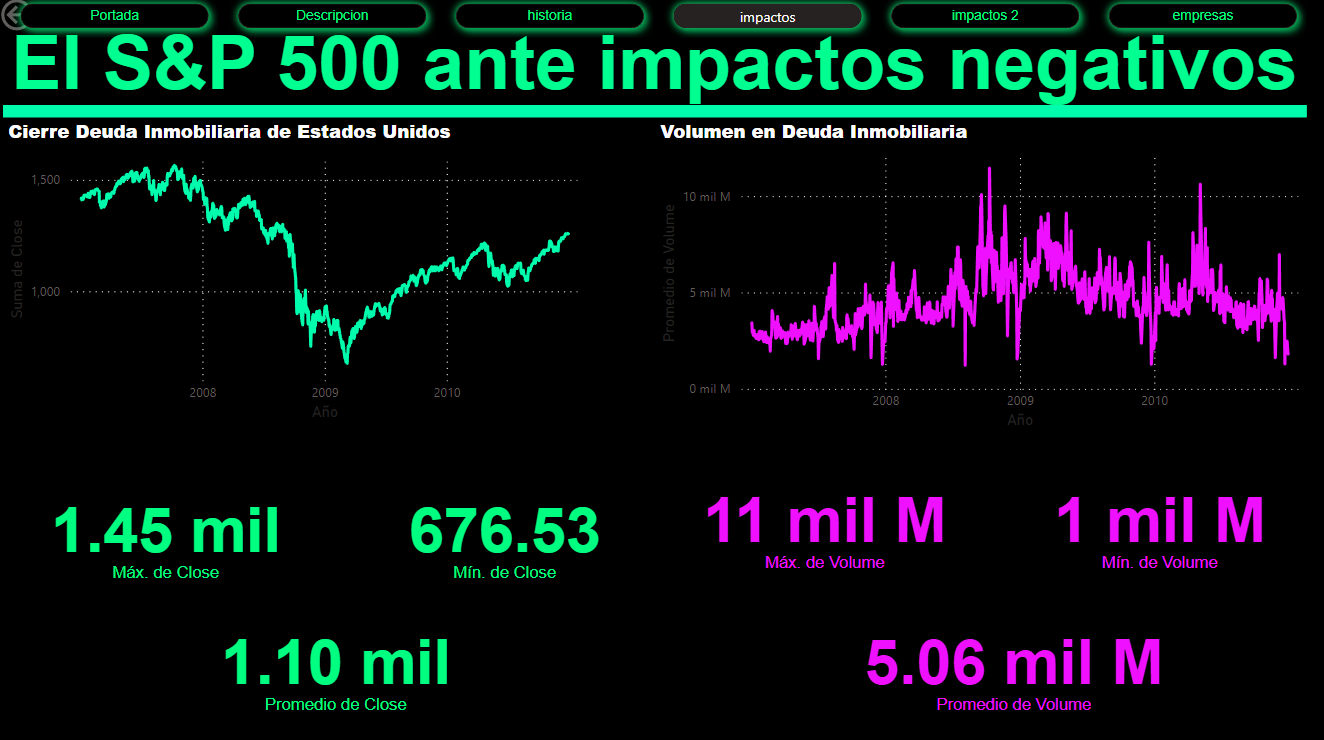

This screenshot's page, from the dashboard's own definition file:
{"tool":"powerbi","page":{"name":"impactos","canvas":[1280,720],"ordinal":3},"visuals":[{"type":"textbox","box":[9.6,20.2,1270.4,100.8],"z":0},{"type":"shape","box":[6.7,106.6,1252.2,12.5],"z":1000},{"type":"lineChart","title":"Cierre Deuda Inmobiliaria de Estados Unidos","fields":{"Category":["historia_gspc.Date.Variación.Jerarquía de fechas.Año","historia_gspc.Date.Variación.Jerarquía de fechas.Trimestre","historia_gspc.Date.Variación.Jerarquía de fechas.Mes","historia_gspc.Date.Variación.Jerarquía de fechas.Día"],"Y":["Sum(historia_gspc.Close)"]},"box":[6.8,118.7,561.2,294.7],"z":2000},{"type":"card","fields":{"Values":["Max(historia_gspc.Volume)"]},"box":[632.8,433.1,325.5,150.8],"z":3000},{"type":"lineChart","title":"Volumen en Deuda Inmobiliaria","fields":{"Category":["historia_gspc.Date.Variación.Jerarquía de fechas.Año","historia_gspc.Date.Variación.Jerarquía de fechas.Trimestre","historia_gspc.Date.Variación.Jerarquía de fechas.Mes","historia_gspc.Date.Variación.Jerarquía de fechas.Día"],"Y":["Avg(historia_gspc.Volume)"]},"box":[632.8,119.1,626.1,303.4],"z":4000},{"type":"card","fields":{"Values":["Min(historia_gspc.Volume)"]},"box":[954.5,433.1,325.5,150.8],"z":5000},{"type":"actionButton","box":[0,0,100,40],"z":6000},{"type":"card","fields":{"Values":["Max(historia_gspc.Close)"]},"box":[0,442.7,325.5,150.8],"z":7000},{"type":"card","fields":{"Values":["Min(historia_gspc.Close)"]},"box":[325.5,442.7,325.5,150.8],"z":8000},{"type":"card","fields":{"Values":["Avg(historia_gspc.Volume)"]},"box":[814.3,569.4,325.5,150.8],"z":9000},{"type":"card","fields":{"Values":["Avg(historia_gspc.Close)"]},"box":[163.2,569.4,325.5,150.8],"z":10000},{"type":"pageNavigator","box":[14.6,0,1249.8,42.8],"z":11000}]}

Visuals, with their boxes in screenshot pixels (x1, y1, x2, y2), scaled from the page's 1280x720 canvas onto the 1324x740 screenshot:
textbox: BBox(10, 21, 1323, 124)
shape: BBox(7, 110, 1302, 122)
"Cierre Deuda Inmobiliaria de Estados Unidos" lineChart: BBox(7, 122, 588, 425)
card - Max(historia_gspc.Volume): BBox(655, 445, 991, 600)
"Volumen en Deuda Inmobiliaria" lineChart: BBox(655, 122, 1302, 434)
card - Min(historia_gspc.Volume): BBox(987, 445, 1323, 600)
actionButton: BBox(0, 0, 103, 41)
card - Max(historia_gspc.Close): BBox(0, 455, 337, 610)
card - Min(historia_gspc.Close): BBox(337, 455, 673, 610)
card - Avg(historia_gspc.Volume): BBox(842, 585, 1179, 739)
card - Avg(historia_gspc.Close): BBox(169, 585, 505, 739)
pageNavigator: BBox(15, 0, 1308, 44)
